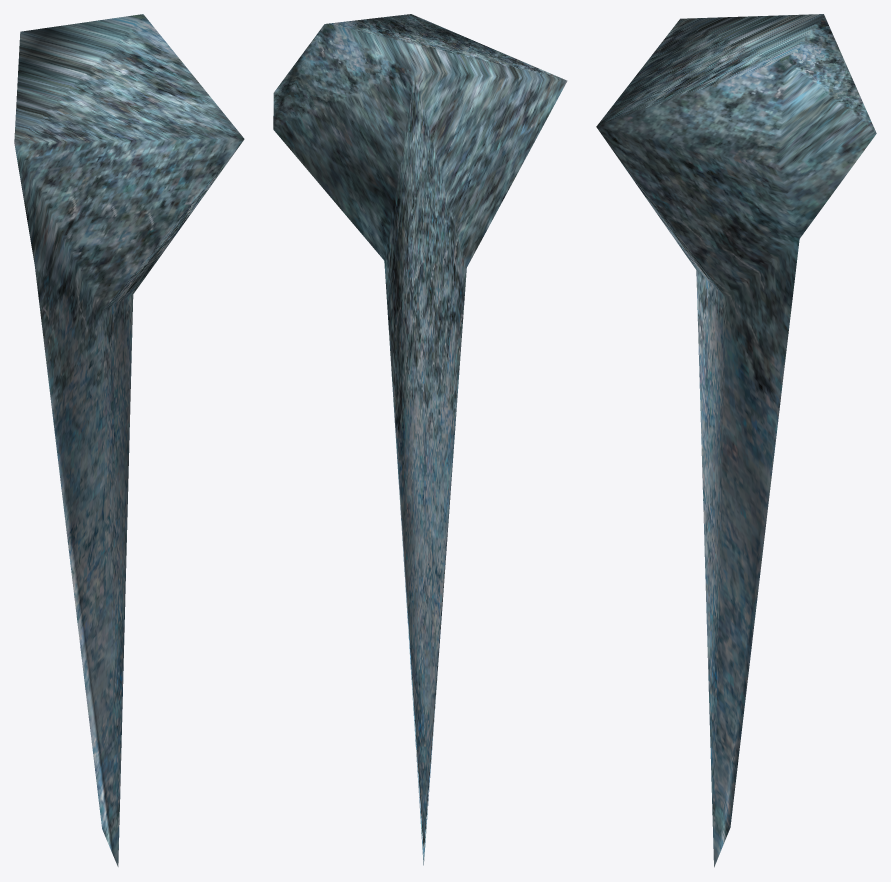
Rendered from thm_all_cave_stalagtite_ice_a2_l2.fbx.
The picture shows the model from 3 angles, left to right: view 1: azimuth 30°, elevation 25°; view 2: azimuth 150°, elevation 25°; view 3: azimuth 270°, elevation 25°; orthographic projection. The views are drawn at different scales.
Visible parts, largest first — view 1: mesh_node; view 2: mesh_node; view 3: mesh_node.
Part boxes in pixels (x1,y1,x2,y2): mesh_node: (14, 14, 244, 866); mesh_node: (273, 14, 567, 865); mesh_node: (596, 14, 876, 867).
Size of the model in its own units: 0.5625 by 1.89 by 0.5742.
